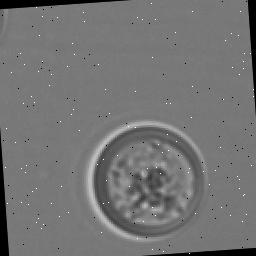picoshell: (87, 122, 206, 243)
